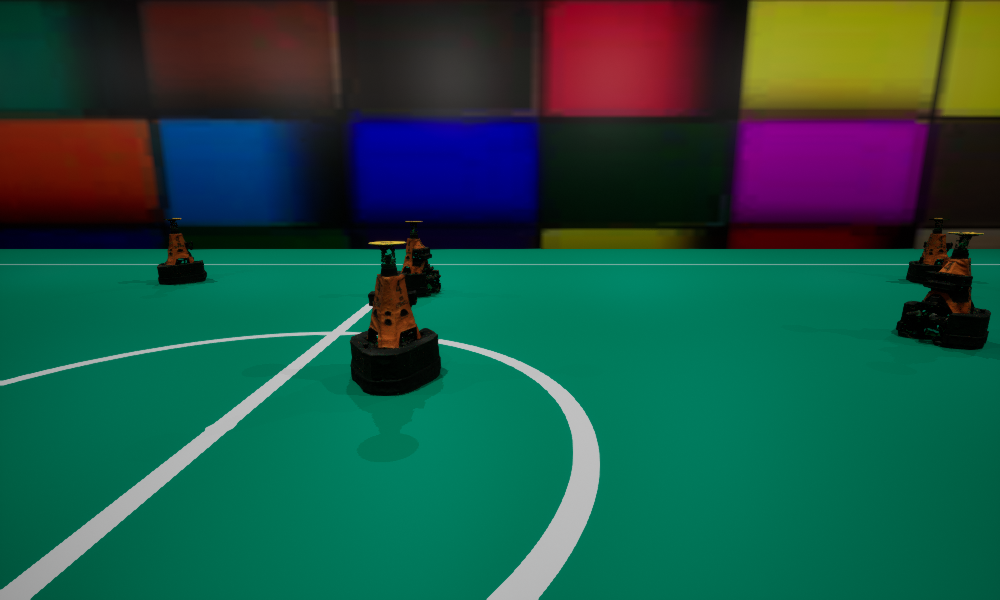0 orange robot TechUnited: (350, 241, 440, 395), (896, 232, 990, 348), (157, 218, 206, 284), (397, 221, 440, 296), (906, 218, 952, 283)
